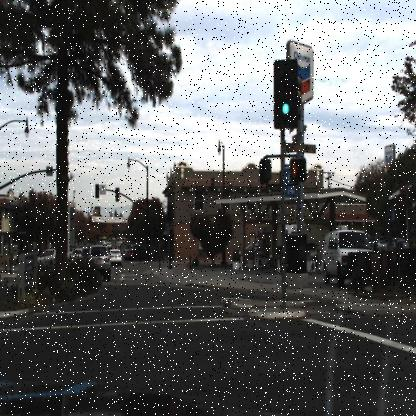car: (319, 228, 378, 288), (86, 240, 113, 282), (34, 245, 62, 269), (124, 245, 148, 263), (107, 245, 123, 268)
trafficLight-Green: (273, 57, 300, 130)
